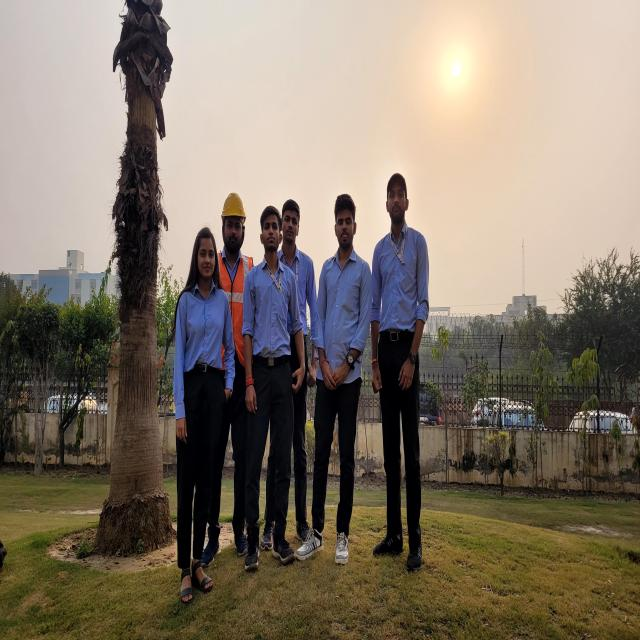safe: (216, 189, 248, 554)
unsafe: (372, 168, 430, 572), (312, 192, 361, 566), (180, 230, 230, 590), (249, 206, 292, 568), (280, 197, 318, 544)
